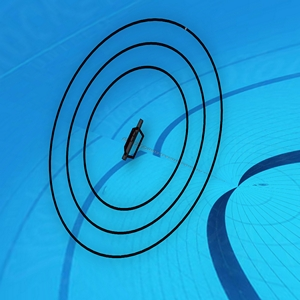circle: (44, 7, 223, 266)
submarine: (126, 123, 155, 159)
